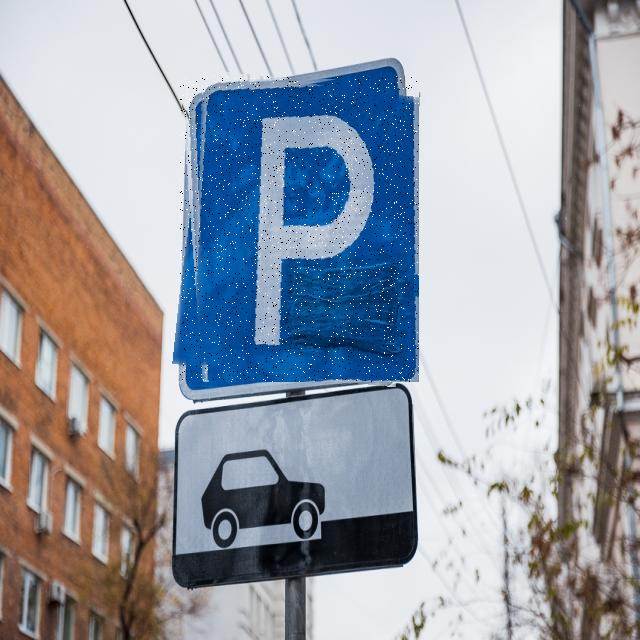parking: (180, 76, 419, 382)
